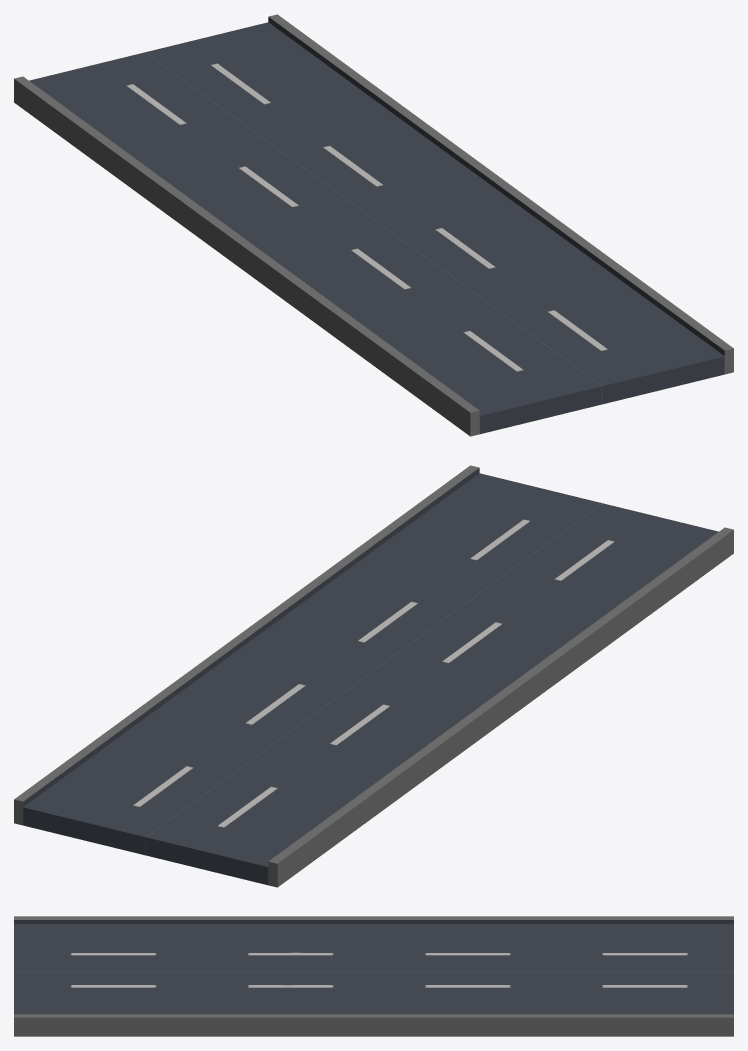
The picture shows the model from 3 angles, top to bottom: view 1: azimuth 30°, elevation 25°; view 2: azimuth 150°, elevation 25°; view 3: azimuth 270°, elevation 25°; orthographic projection. The views are drawn at different scales.
Visible parts, largest first — view 1: SM_Tile_Cube_Road3Lane_01; view 2: SM_Tile_Cube_Road3Lane_01; view 3: SM_Tile_Cube_Road3Lane_01.
Boxes of the visible parts, box(x1,y1,x2,y2) form: SM_Tile_Cube_Road3Lane_01: box(14, 14, 733, 436); SM_Tile_Cube_Road3Lane_01: box(14, 465, 733, 887); SM_Tile_Cube_Road3Lane_01: box(14, 916, 733, 1036).
Size of the model in its own units: 5 by 0.4331 by 15.
